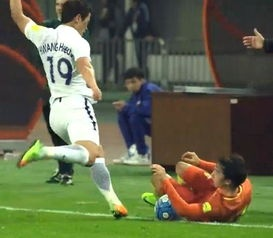falling: (139, 138, 255, 226)
